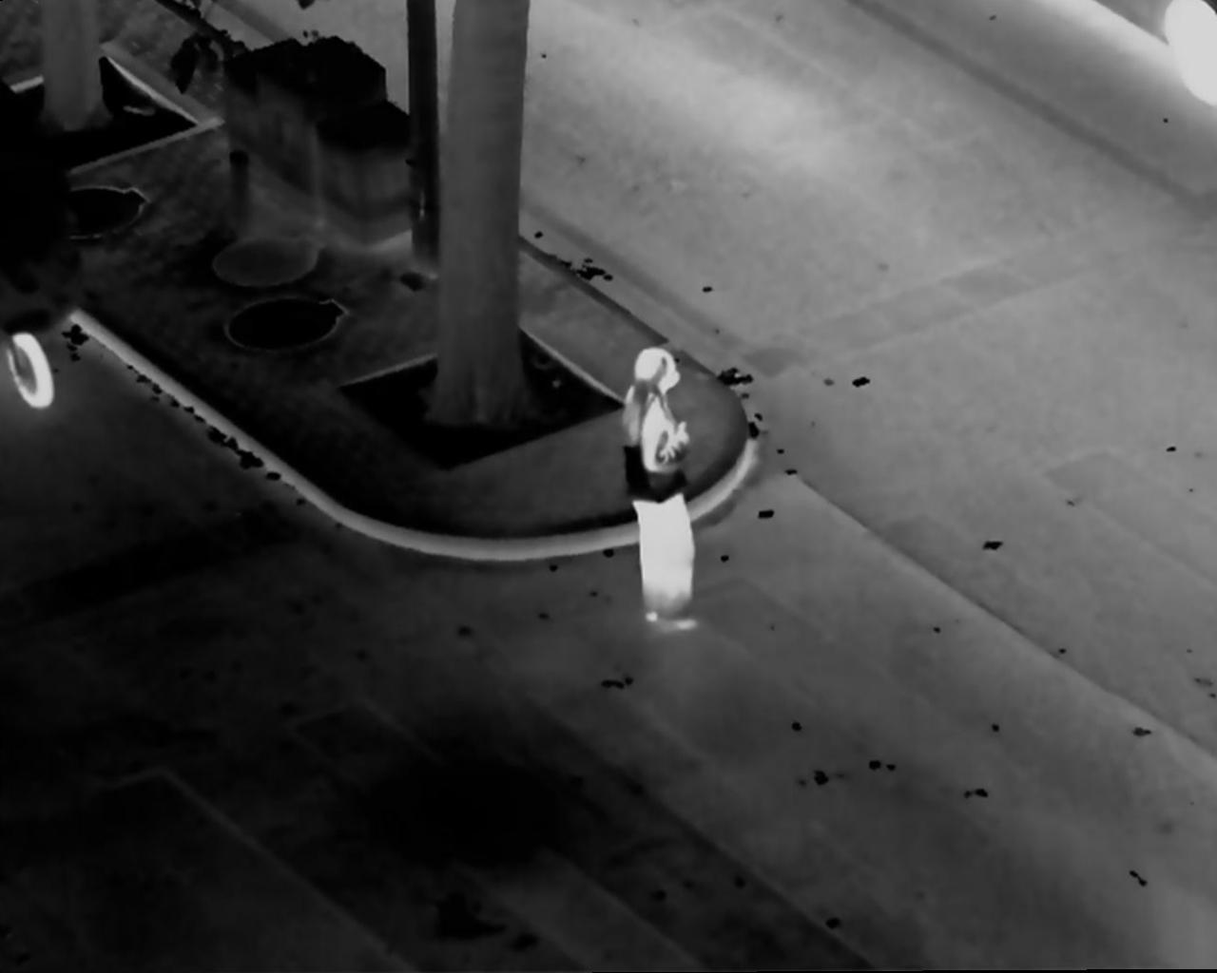person: (617, 340, 712, 639)
